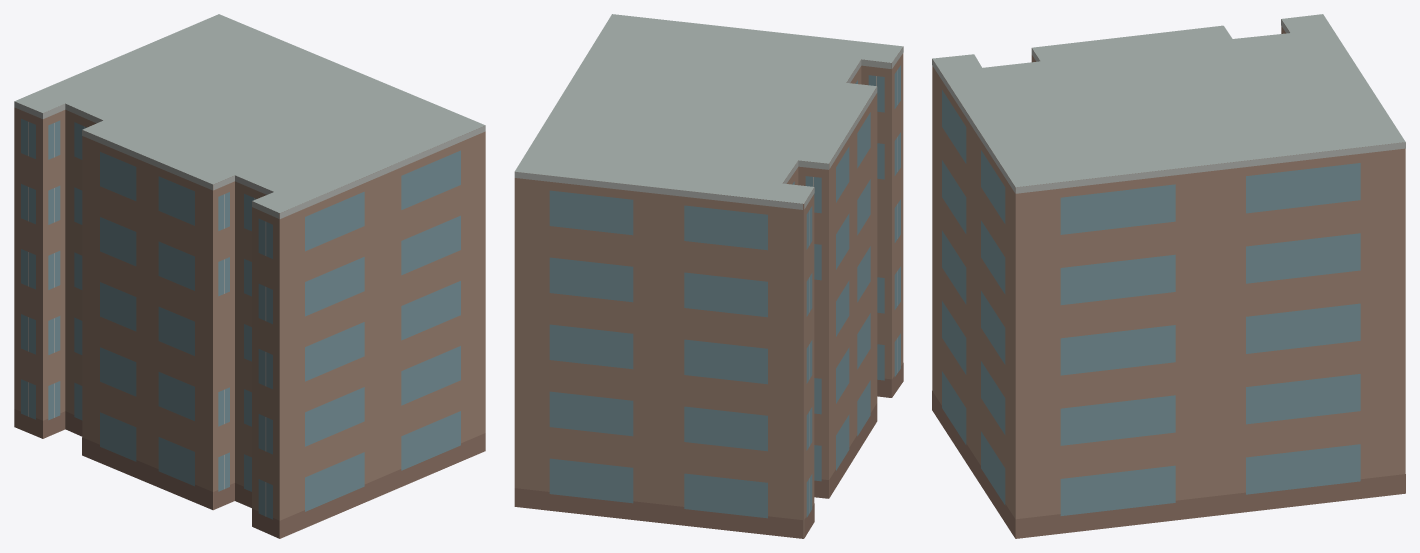
File: survey-upis-32665198.glb
3 views of the same model, side by side, from view 1: azimuth 30°, elevation 25°; view 2: azimuth 150°, elevation 25°; view 3: azimuth 270°, elevation 25° (orthographic). The views are drawn at different scales.
Visible parts, largest first — view 1: survey-upis-32665198.tmp; view 2: survey-upis-32665198.tmp; view 3: survey-upis-32665198.tmp.
Part boxes in pixels (x1=…): survey-upis-32665198.tmp: x1=14, y1=14, x2=485, y2=538; survey-upis-32665198.tmp: x1=514, y1=14, x2=903, y2=538; survey-upis-32665198.tmp: x1=932, y1=14, x2=1405, y2=538.
Bounding box in the file's own units: 13.97 × 13.2 × 16.13.
